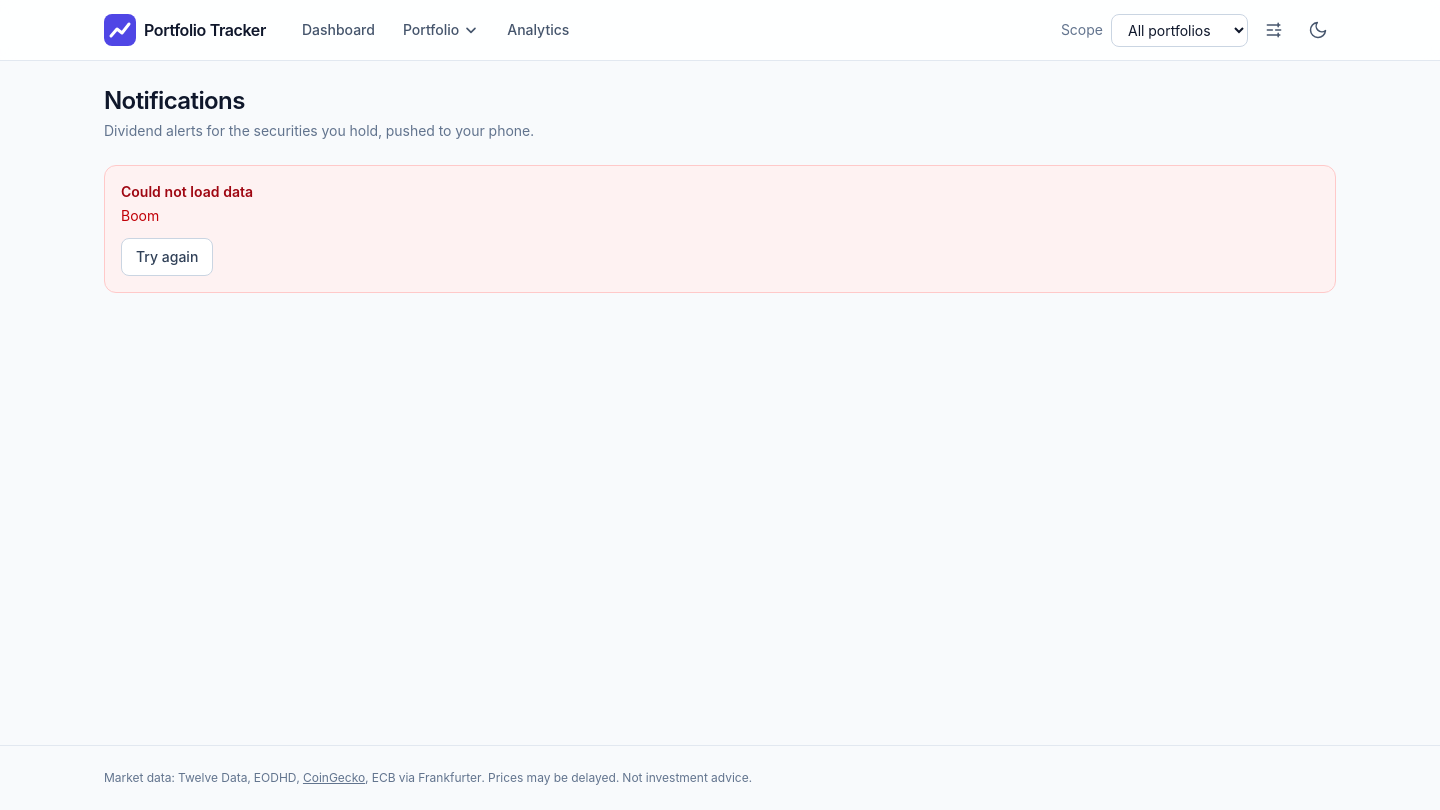
Test: Notifications page › shows an error with a retry when the state cannot be loaded
Check: the message shows "Boom", box x1=121 y1=207 x2=159 y2=224
Click the button "Try again": (167, 257) x1=121 y1=238 x2=213 y2=276
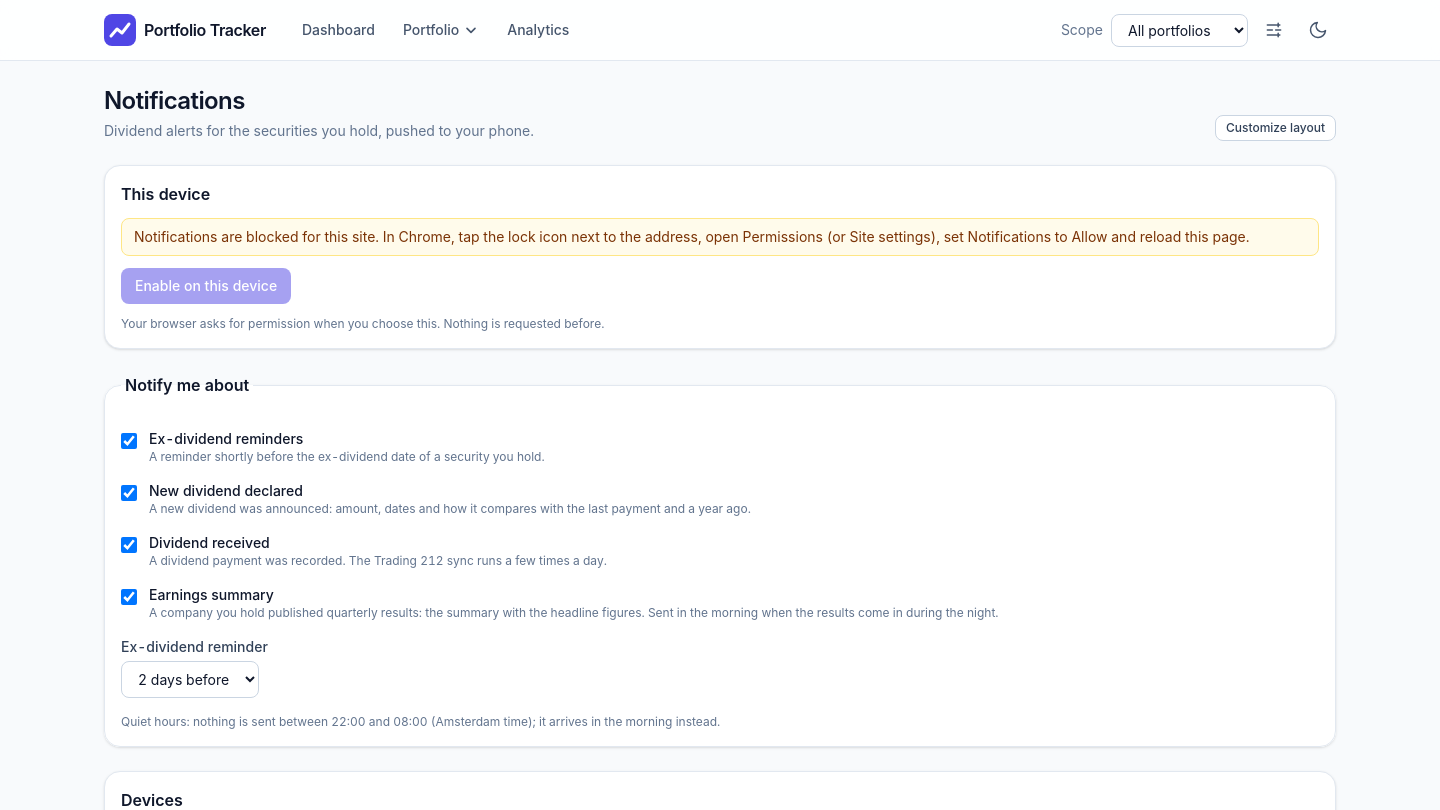
Check: the heading "This device" is shown, box x1=121 y1=184 x2=210 y2=204
